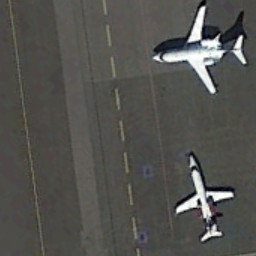Airplane: (147, 2, 252, 104), (162, 147, 241, 245)
